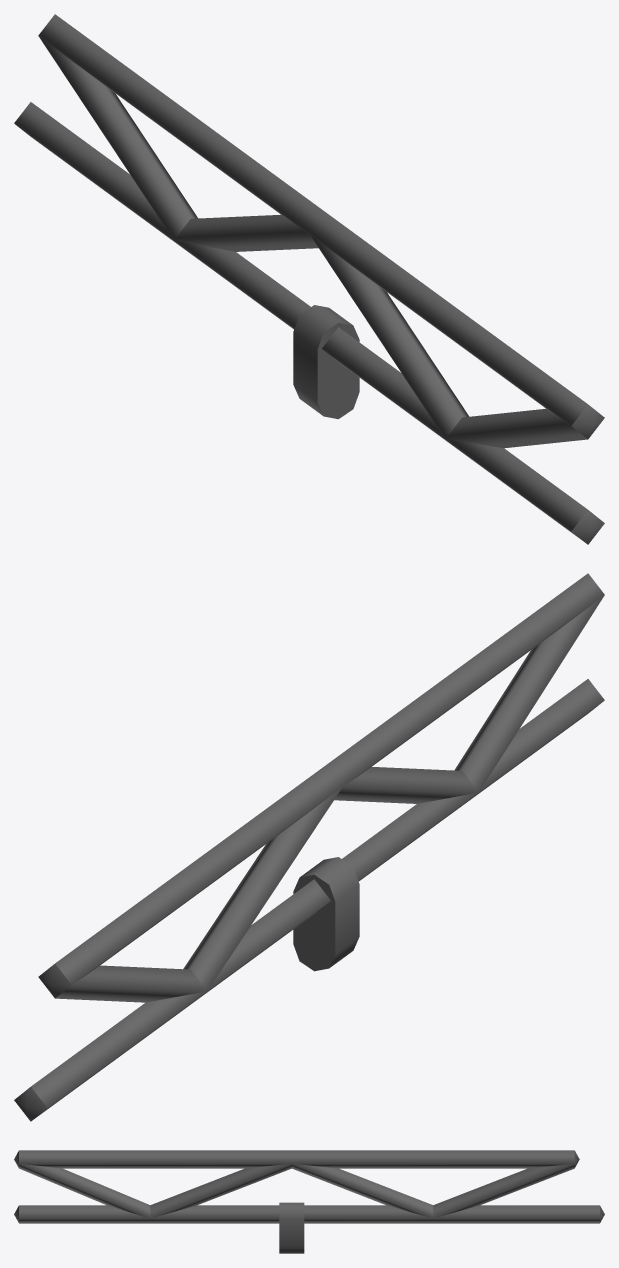
Rendered from Tantares_Antenna_2_1_Side.obj.
3 views of the same model, one above another, from view 1: azimuth 30°, elevation 25°; view 2: azimuth 150°, elevation 25°; view 3: azimuth 270°, elevation 25° (orthographic). The views are drawn at different scales.
Visible parts, largest first — view 1: Tantares_Antenna_2_1_Side; view 2: Tantares_Antenna_2_1_Side; view 3: Tantares_Antenna_2_1_Side.
Part boxes in pixels (left/top/right/bottom): Tantares_Antenna_2_1_Side: left=14, top=14, right=604, bottom=544; Tantares_Antenna_2_1_Side: left=14, top=573, right=604, bottom=1121; Tantares_Antenna_2_1_Side: left=14, top=1150, right=604, bottom=1253.
Size of the model in its own units: 0.0312 by 0.1406 by 0.7312.
